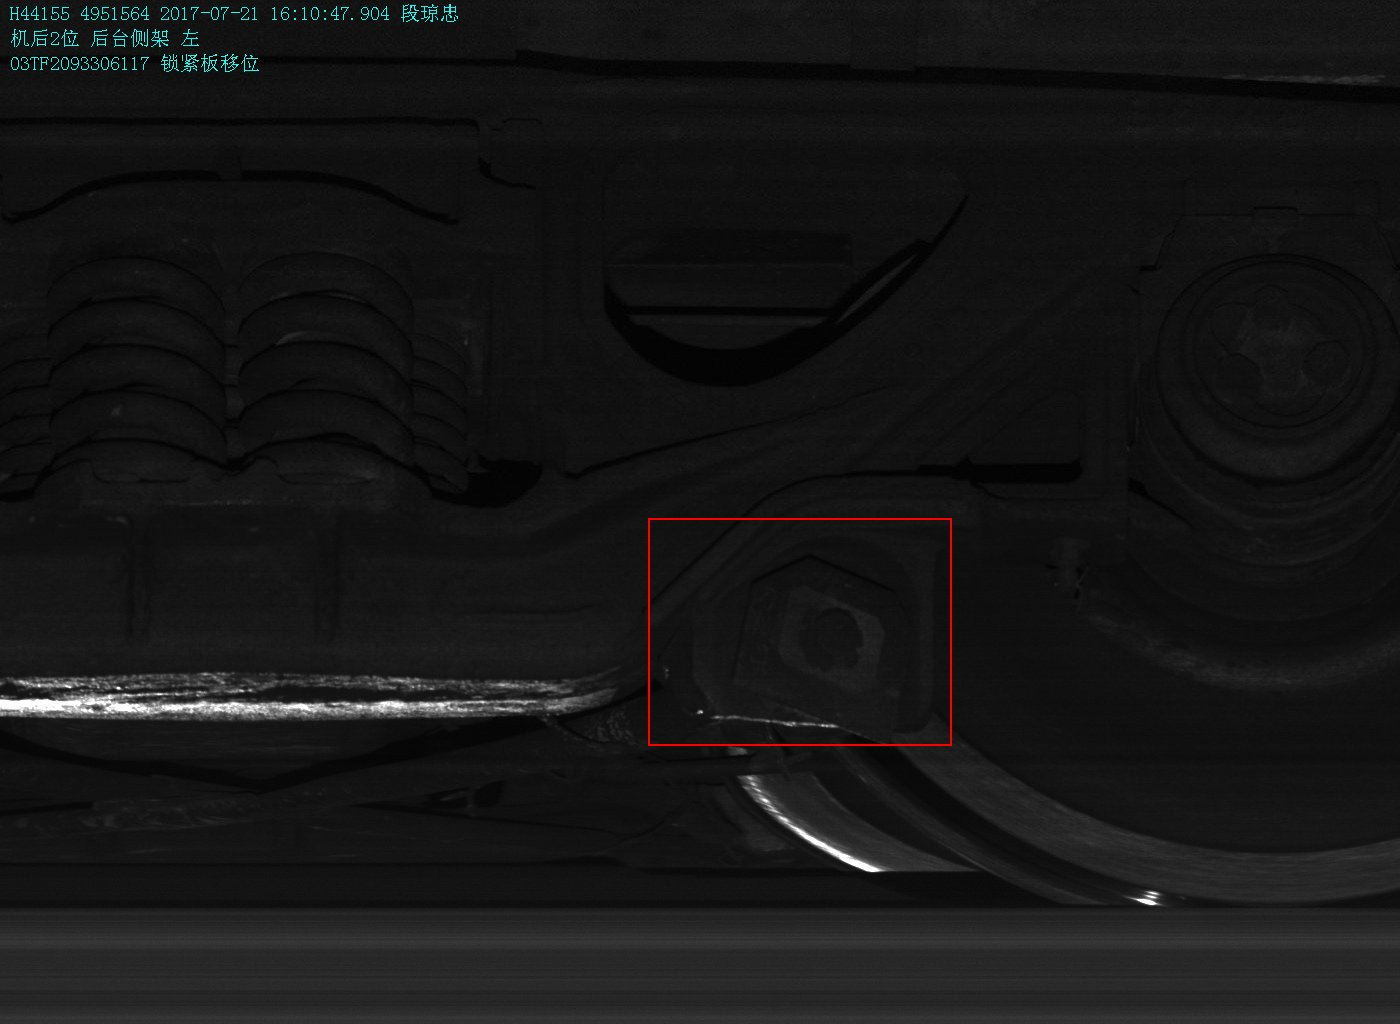Locking plate: (692, 535, 938, 745)
